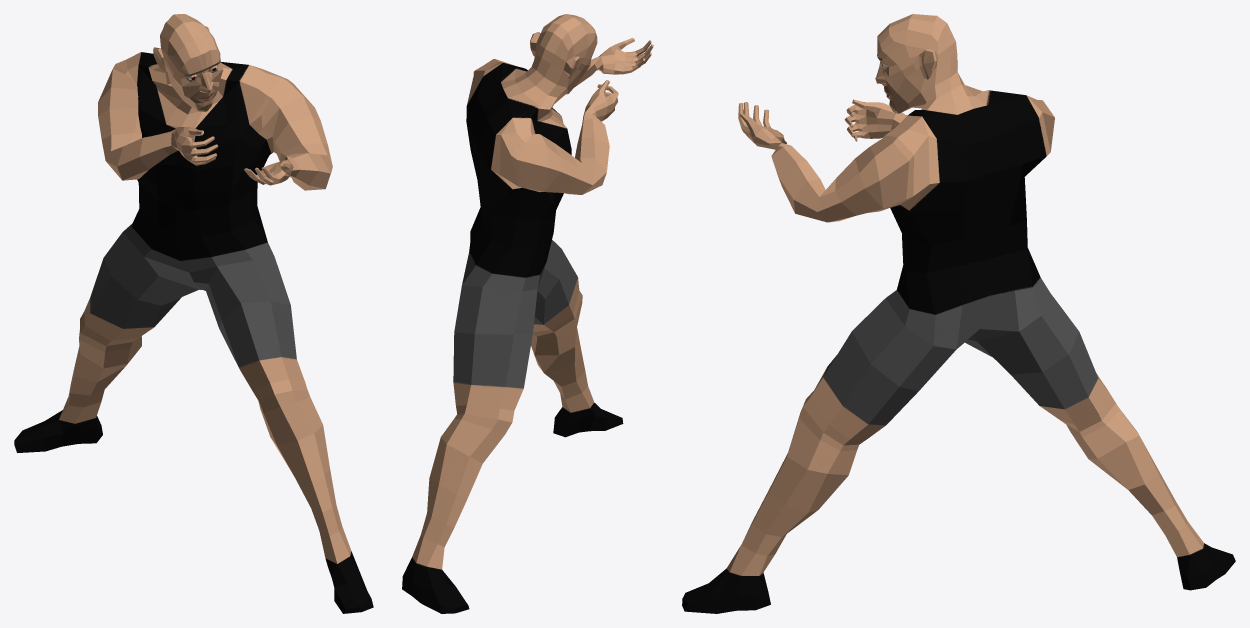
The model's file is PlayerShoot(15).obj.
3 views of the same model, side by side, from view 1: azimuth 30°, elevation 25°; view 2: azimuth 150°, elevation 25°; view 3: azimuth 270°, elevation 25° (orthographic). The views are drawn at different scales.
Parts seen in each view (by area): view 1: Plane002; view 2: Plane002; view 3: Plane002.
Part boxes in pixels (<box>): Plane002: <box>14,14,373,613</box>; Plane002: <box>402,14,653,613</box>; Plane002: <box>682,14,1235,613</box>.
Bounding box in the file's own units: 540 × 1629 × 1471.
